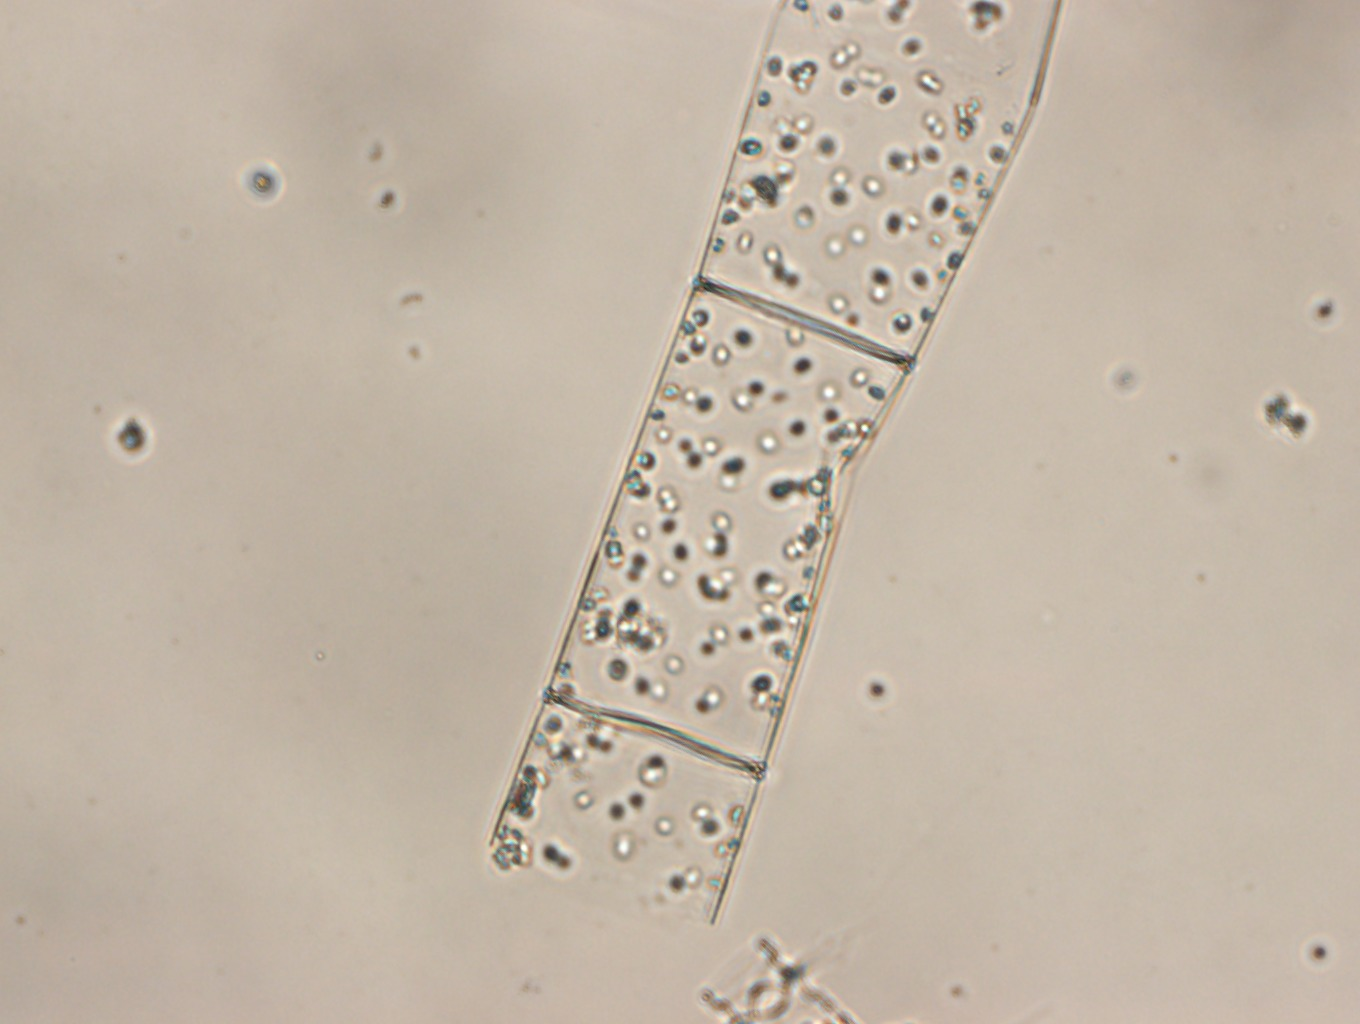guinardia flaccida: (490, 1, 1064, 927)
